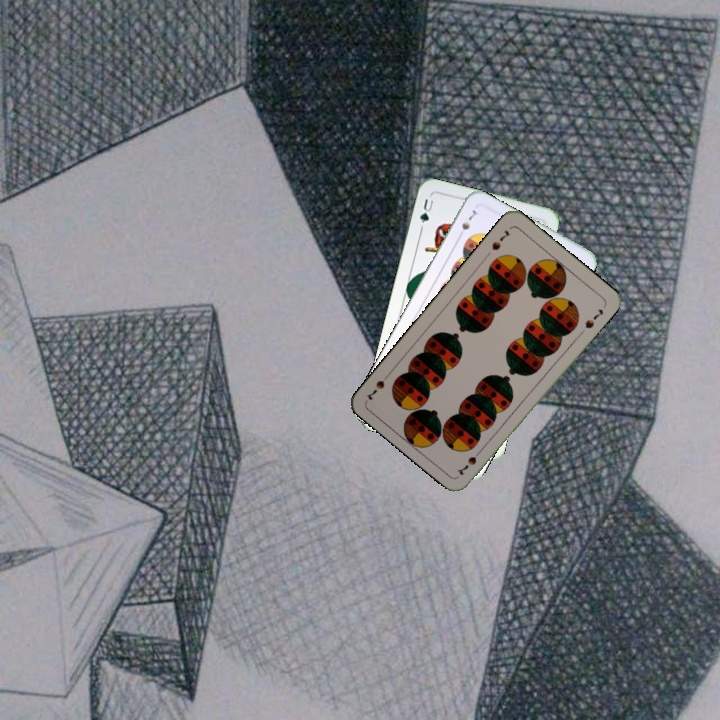GU: (416, 195, 437, 232)
S7: (453, 444, 485, 478), (454, 205, 479, 241), (488, 226, 512, 253)
